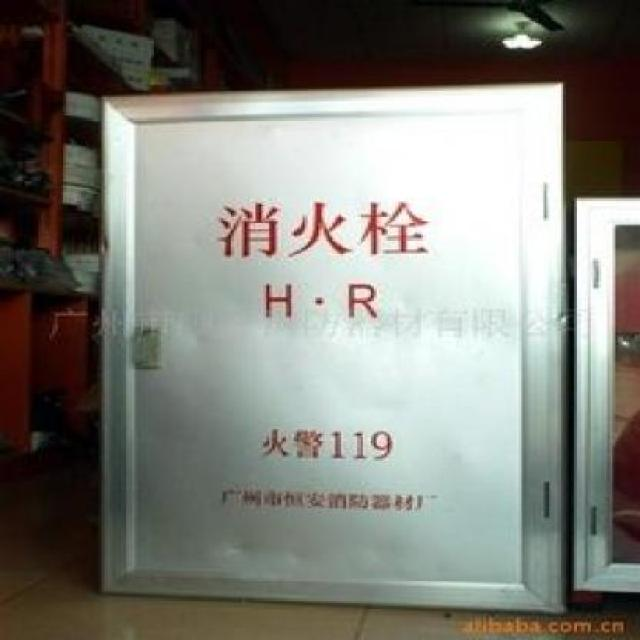firehydrant: (92, 74, 570, 622), (566, 191, 640, 598)
